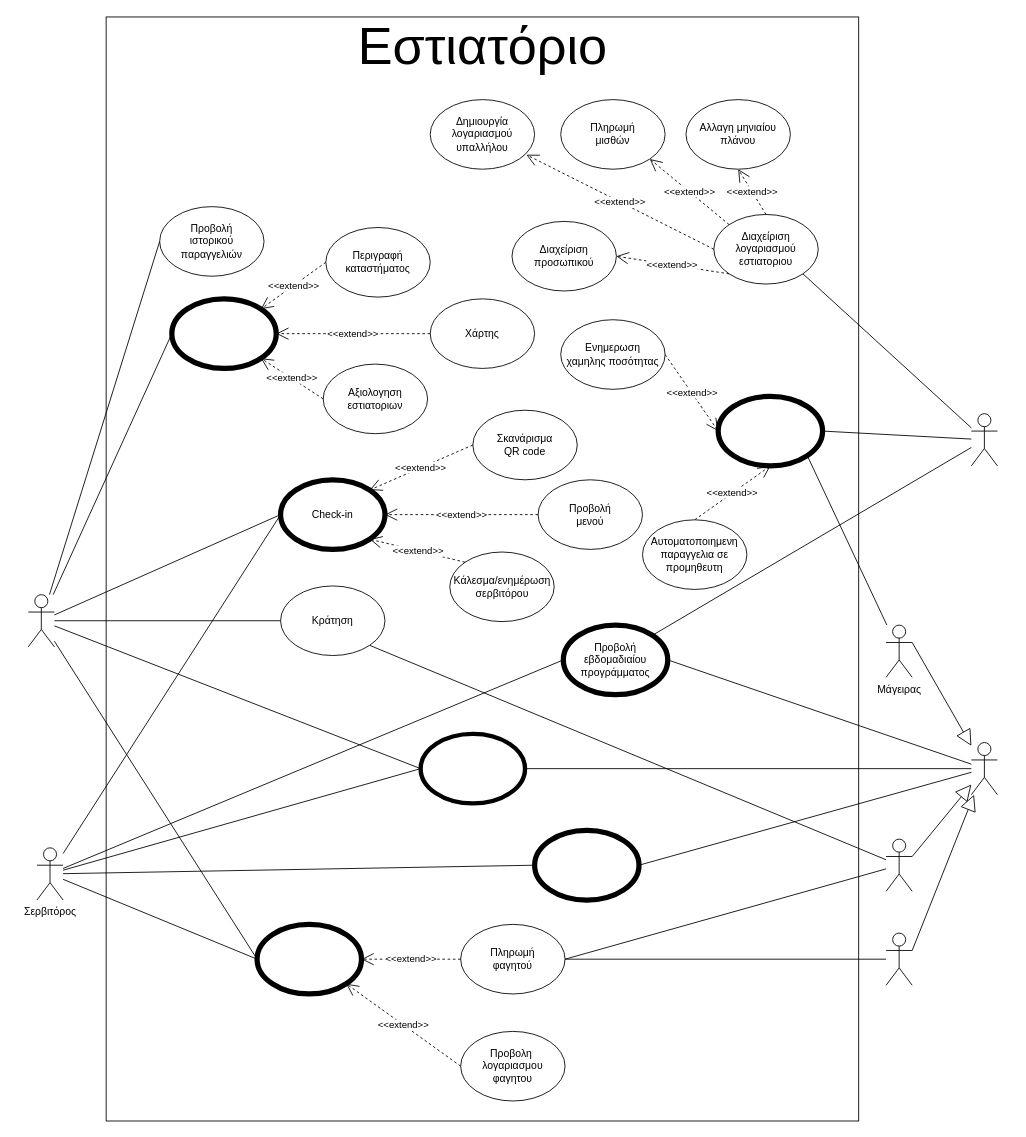
Some shapes in this 1026 by 1137 pixel diagram are drawn without their labels. Each missing label, with the box of its shape:
Check-out: (254, 921, 364, 996)
Διανομέας: (885, 932, 912, 985)
Διαχείριση αποθήκης: (715, 393, 825, 468)
Επιλογή καταστήματος: (169, 296, 278, 371)
Ιδιοκτήτης εστιατορίου: (970, 413, 997, 466)
Παραγγελία: (418, 731, 527, 805)
Πελάτης εστιατορίου: (27, 594, 54, 647)
Προβολή εκκρεμών Tasks: (532, 827, 641, 902)
Ταμείας: (885, 838, 912, 891)
Υπάλληλος: (970, 742, 997, 795)
